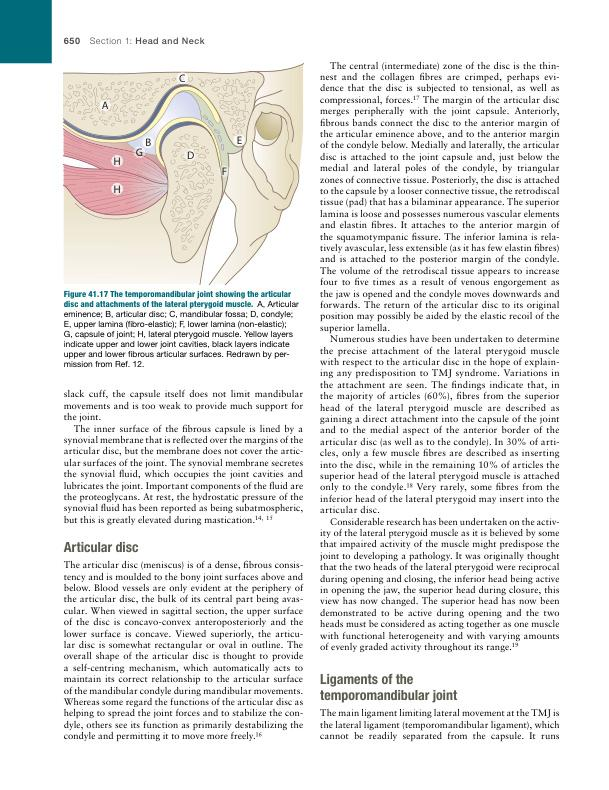caption: (63, 289, 300, 369)
header: (89, 36, 206, 45)
image: (61, 60, 307, 288)
sub-section-heading: (318, 672, 459, 704), (62, 540, 140, 554)
text: (318, 60, 562, 654), (61, 559, 305, 743), (61, 388, 304, 526), (318, 707, 561, 743)
